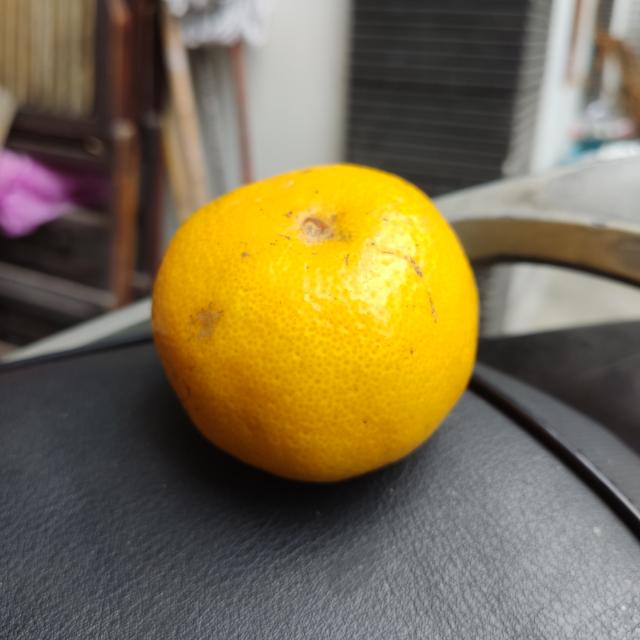orange: (148, 158, 484, 488)
